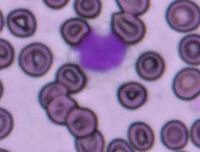M: (70, 25, 130, 76)
